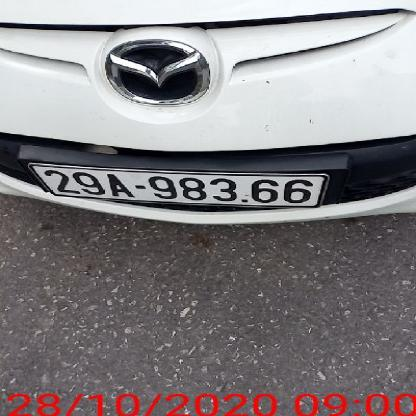biensoxe: (24, 156, 333, 218)
